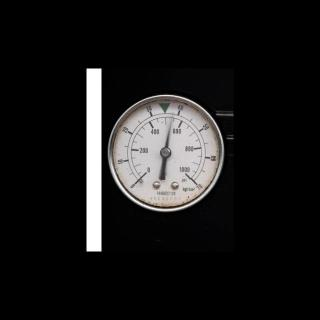gauge: (103, 88, 233, 220), (126, 175, 144, 193), (185, 174, 202, 188), (160, 147, 171, 157), (166, 130, 171, 138)
